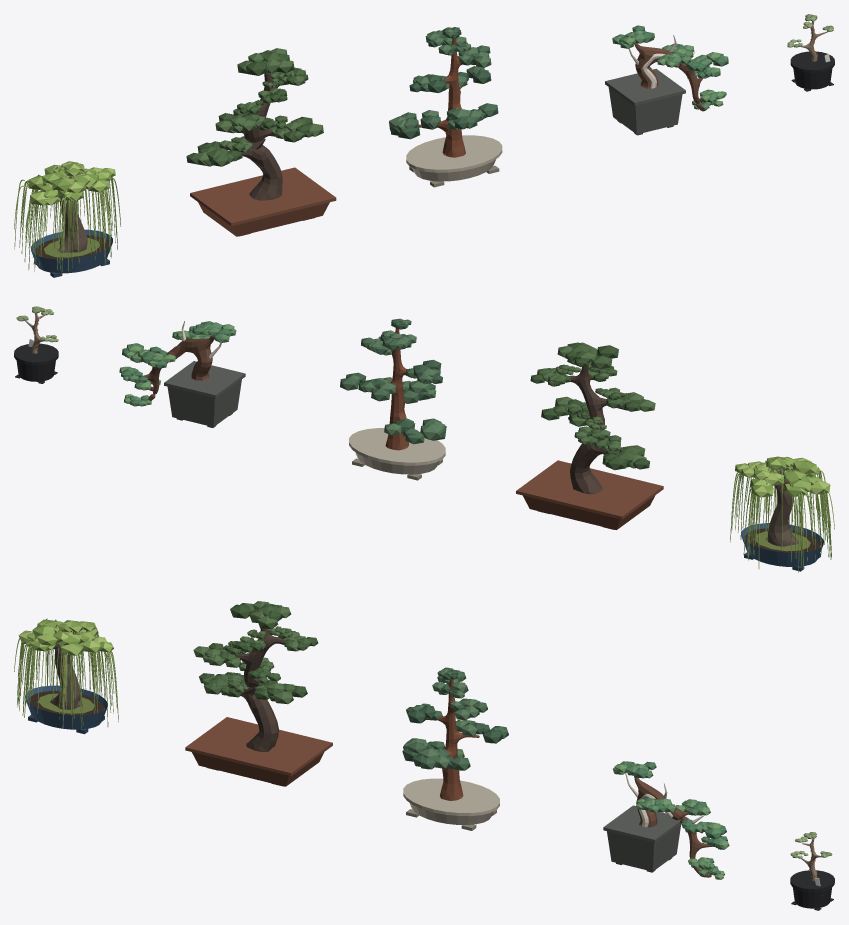
File: bonsais.glb
The picture shows the model from 3 angles, top to bottom: view 1: azimuth 30°, elevation 25°; view 2: azimuth 150°, elevation 25°; view 3: azimuth 330°, elevation 25°; orthographic projection.
Parts seen in each view (by area): view 1: BonsaiMoyogi, BonsaiChokkan, BonsaiSalze, BonsaiKengai, BonsaiPlanter; view 2: BonsaiMoyogi, BonsaiSalze, BonsaiChokkan, BonsaiKengai, BonsaiPlanter; view 3: BonsaiMoyogi, BonsaiSalze, BonsaiChokkan, BonsaiKengai, BonsaiPlanter.
Part boxes in pixels (bbox=[...]): BonsaiMoyogi: bbox=[186, 48, 336, 236]; BonsaiChokkan: bbox=[389, 27, 502, 187]; BonsaiSalze: bbox=[14, 161, 121, 277]; BonsaiKengai: bbox=[605, 25, 728, 135]; BonsaiPlanter: bbox=[787, 14, 834, 91]; BonsaiMoyogi: bbox=[516, 342, 663, 529]; BonsaiSalze: bbox=[730, 456, 834, 572]; BonsaiChokkan: bbox=[340, 318, 446, 480]; BonsaiKengai: bbox=[119, 321, 245, 427]; BonsaiPlanter: bbox=[14, 306, 58, 383]; BonsaiMoyogi: bbox=[185, 601, 332, 786]; BonsaiSalze: bbox=[14, 618, 118, 734]; BonsaiChokkan: bbox=[402, 667, 508, 830]; BonsaiKengai: bbox=[603, 761, 729, 879]; BonsaiPlanter: bbox=[790, 832, 834, 910].
Bounding box in the file's own units: 3.39 × 0.6578 × 0.3454.
